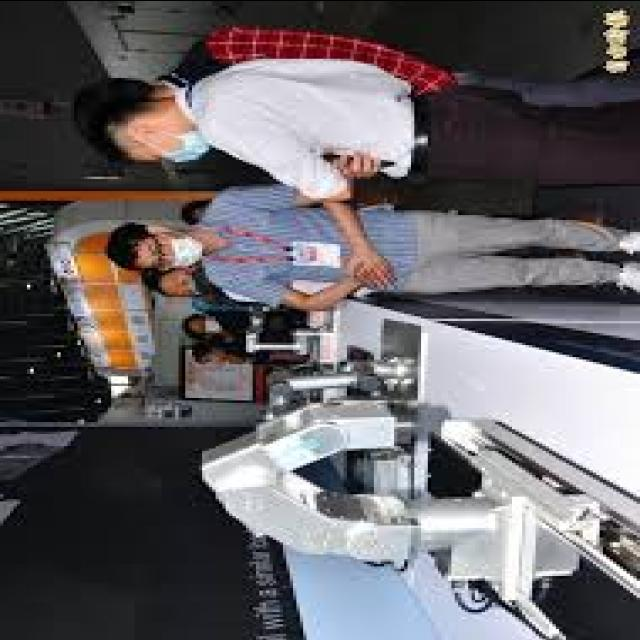Robotic-arm: (194, 400, 596, 600)
